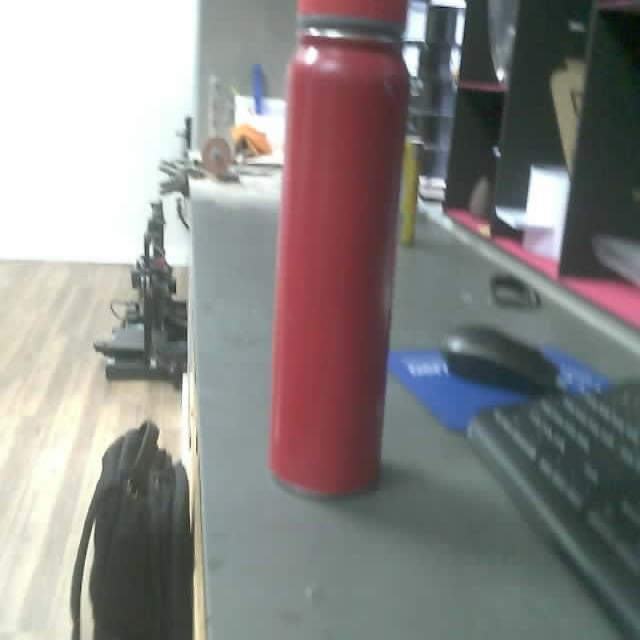water bottle: (267, 0, 412, 505)
